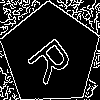R: (25, 30, 82, 86)
